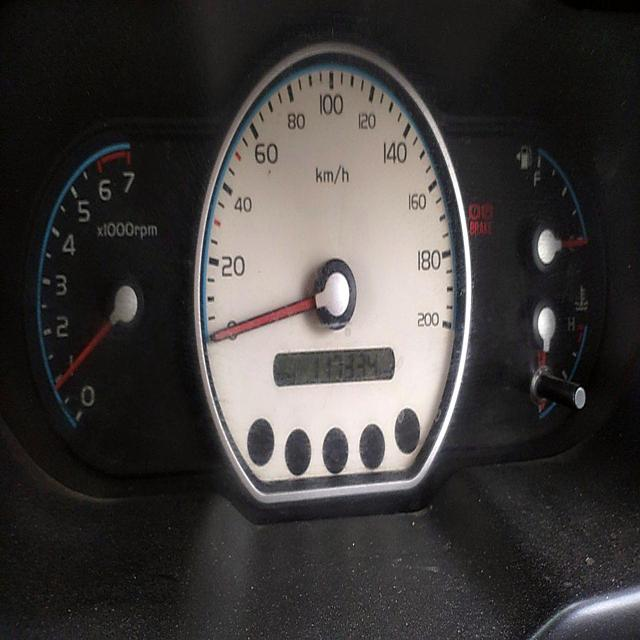odometer: (311, 346, 381, 384)
